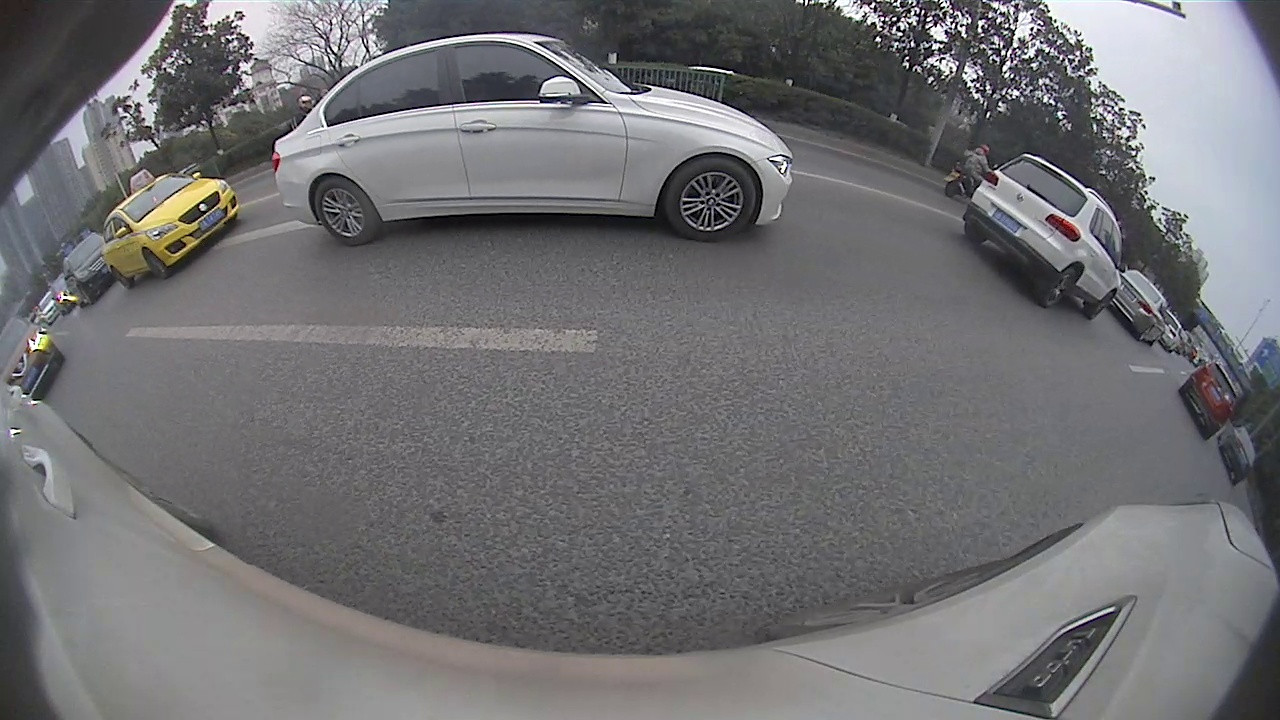car: (271, 34, 794, 248), (965, 152, 1123, 319), (102, 171, 239, 290), (2, 314, 65, 402), (1178, 362, 1245, 442), (1112, 268, 1168, 347), (60, 232, 116, 307), (1217, 425, 1257, 486)
front: (663, 155, 758, 243), (143, 250, 171, 280)
rear: (313, 175, 376, 246), (1042, 269, 1081, 307), (111, 267, 134, 290)
rider: (943, 138, 991, 197)
